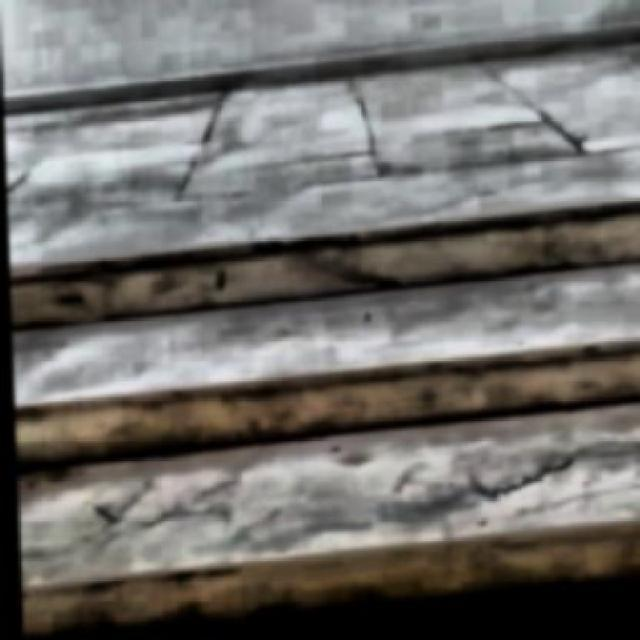stair: (7, 204, 638, 638)
